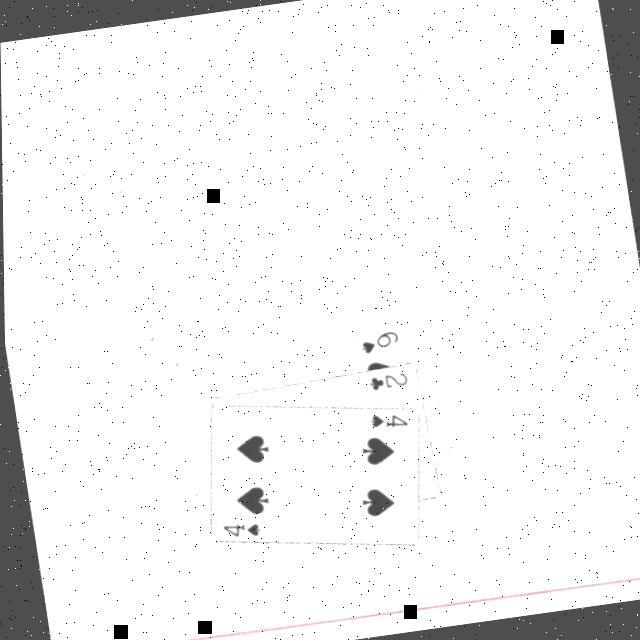2C: (364, 368, 409, 394)
4S: (216, 517, 262, 544), (364, 408, 409, 434)
6S: (354, 327, 402, 358)
